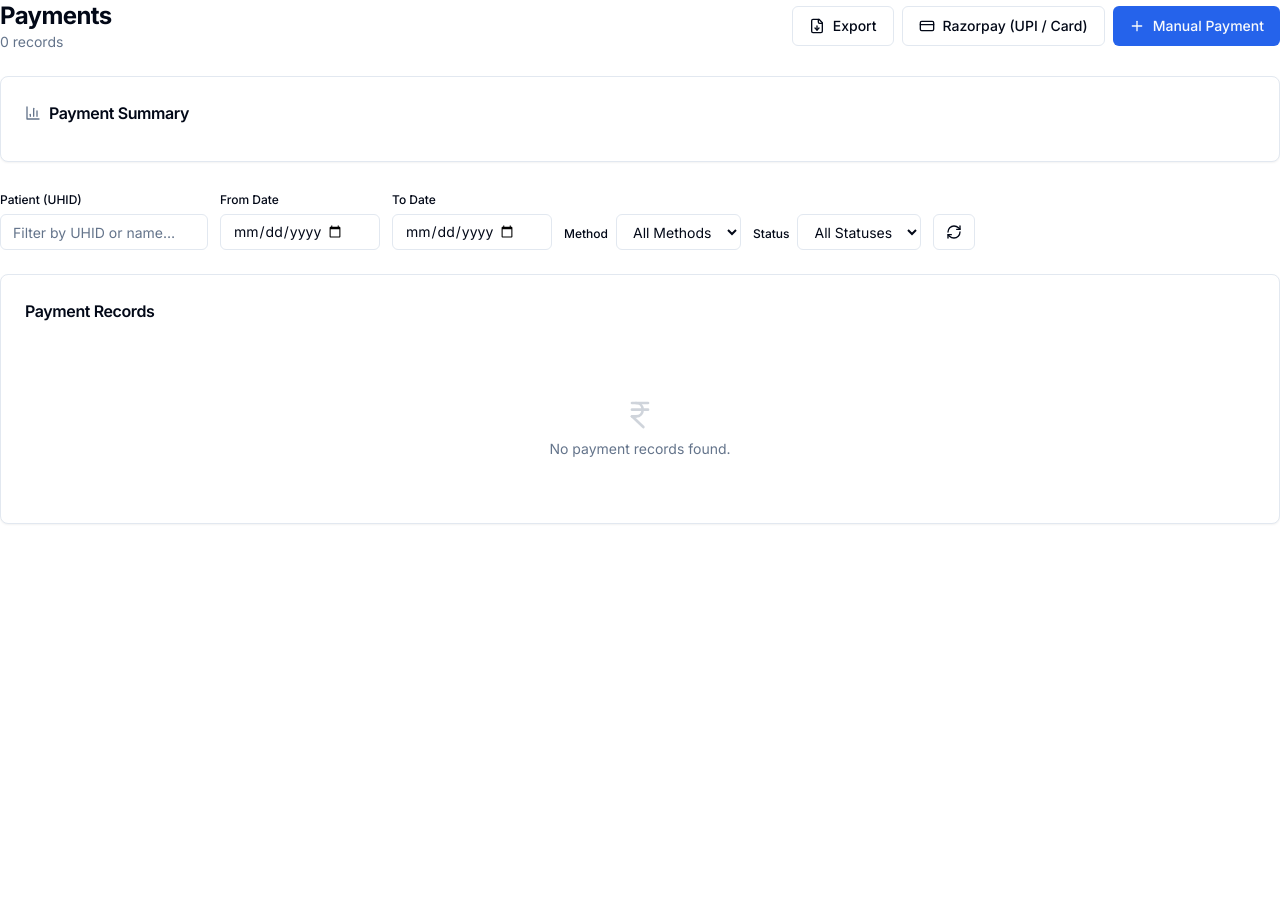
Test case: PaymentsPage — Export › shows the server error message and keeps the dialog open
This screenshot has width=1280, height=900.
Step 1. Click the button "Export" → (843, 26), box [792, 6, 894, 46]
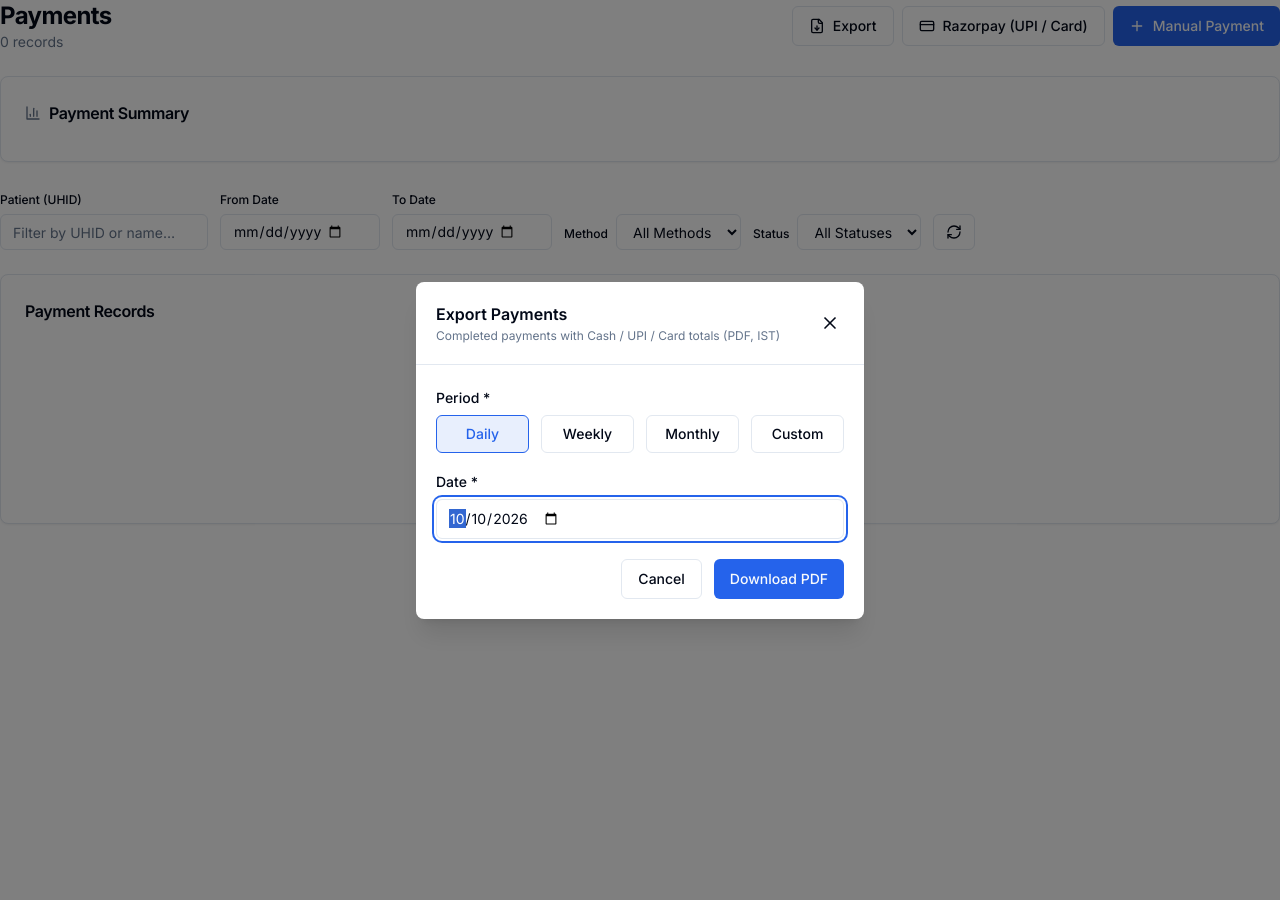
Step 2. Click the button "Download PDF" → (779, 578), box [714, 558, 844, 598]
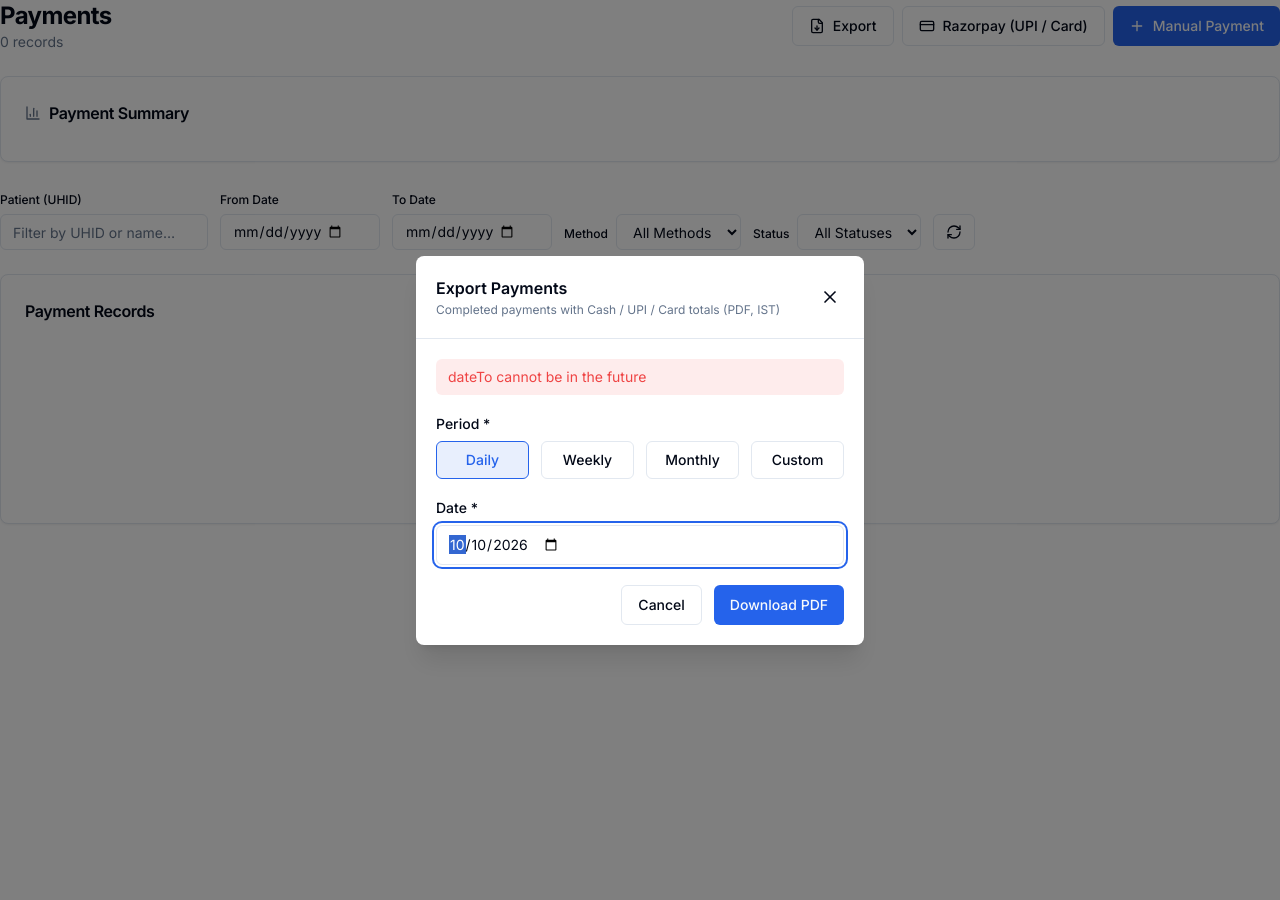
expect the heading "Export Payments" is shown: met, box [436, 278, 567, 298]
expect the text "dateTo cannot be in the future" is shown: met, box [436, 358, 844, 394]
